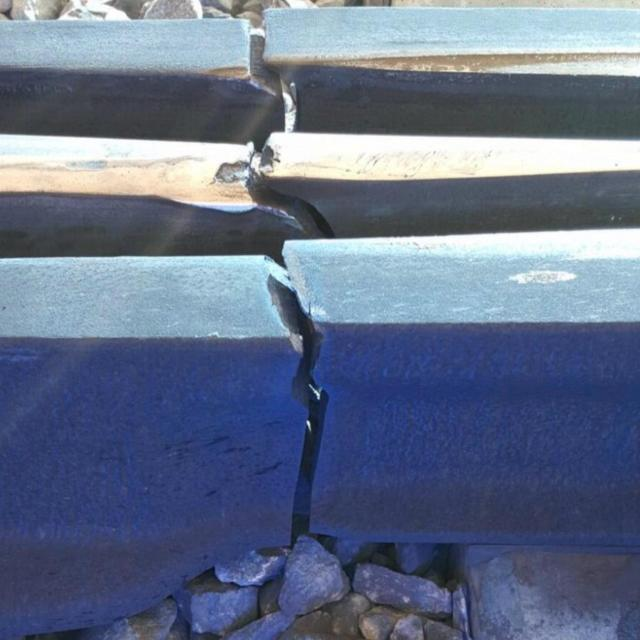broken_rail_high: (194, 11, 366, 548)
